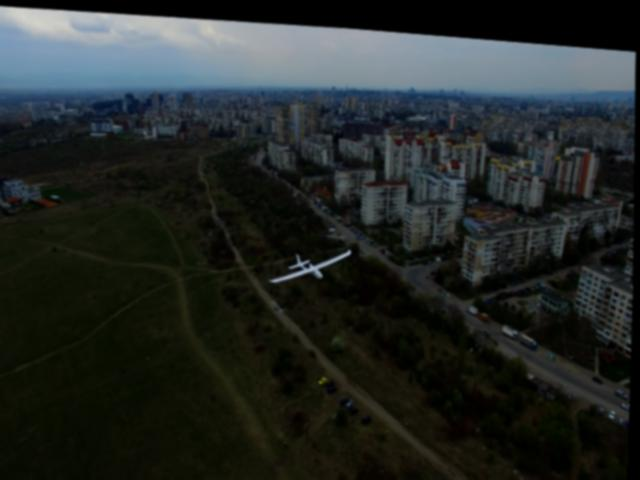plane: (271, 238, 354, 286)
